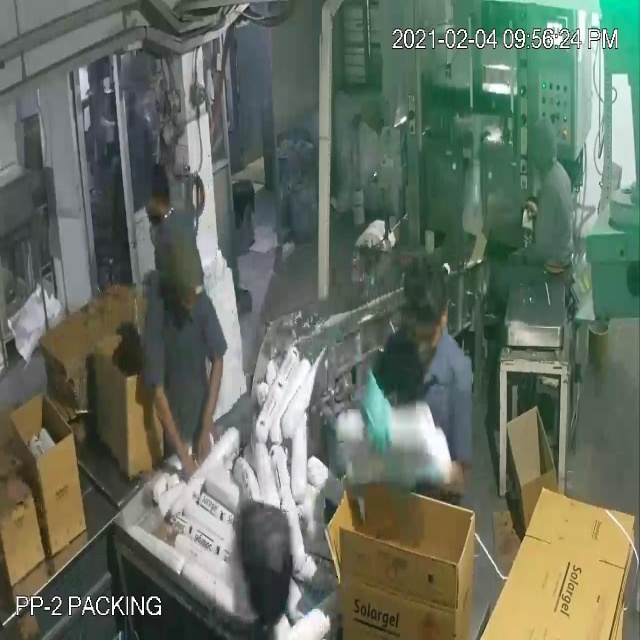Guantes: (358, 361, 402, 476)
Sin_guantes: (176, 316, 231, 472), (135, 356, 199, 489)
